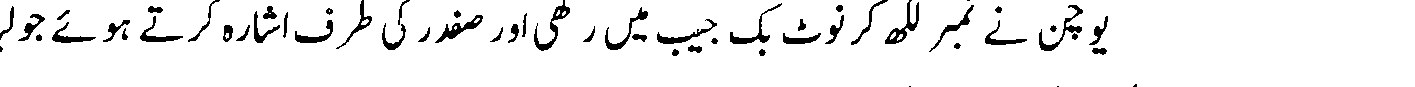bay_shosha: (650, 27, 686, 60), (756, 29, 772, 59)
